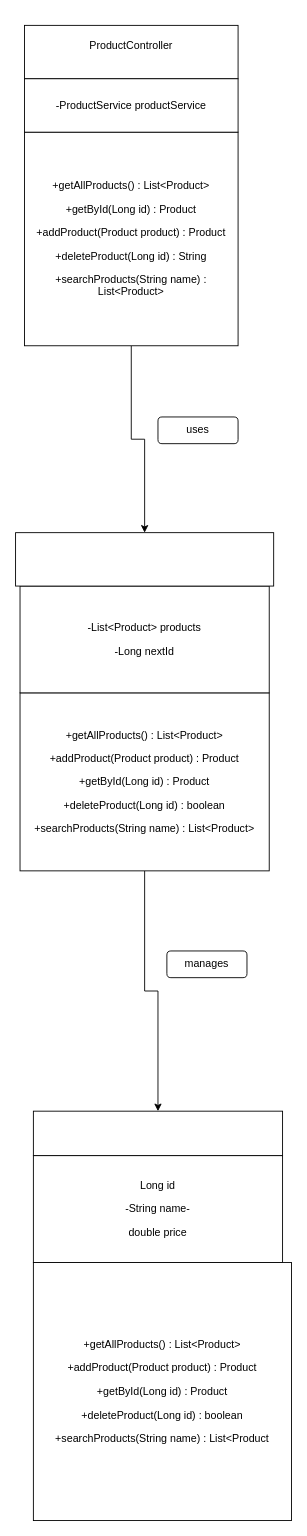
Some shapes in this 307 by 1536 pixel diagram are drawn without their labels. Each missing label, with the centre of its shape:
"Product" belongs at (x=157, y=1133).
"ProductService" belongs at (x=144, y=559).
